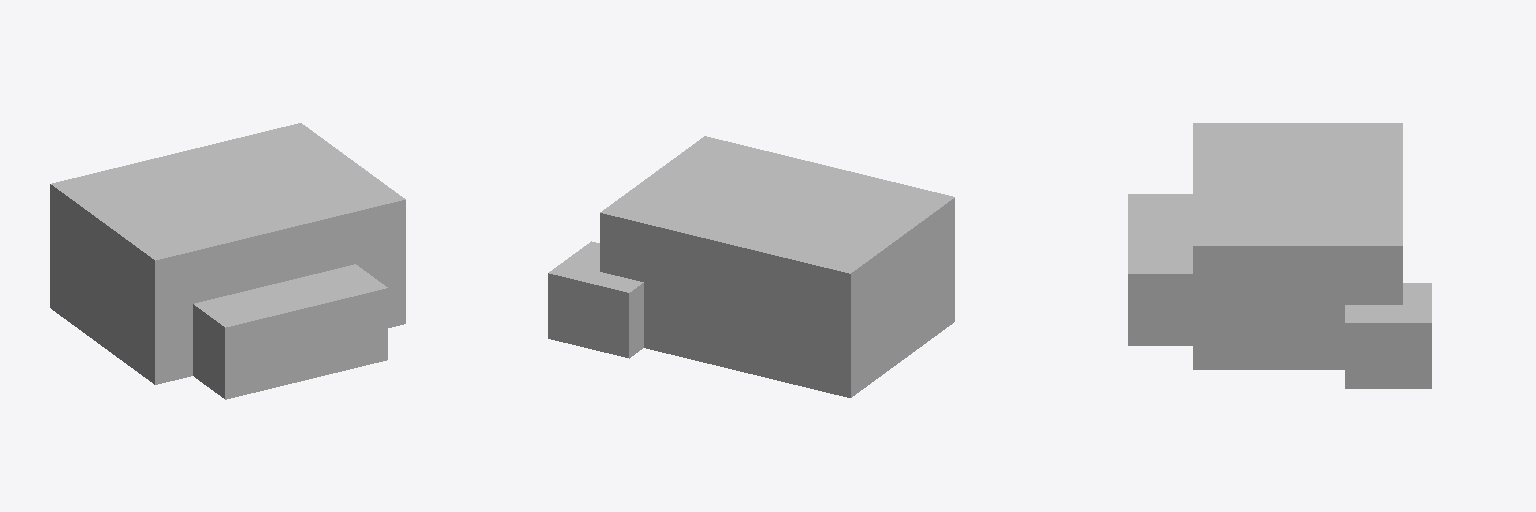
Rendered from Grama uno.obj.
3 views of the same model, side by side, from view 1: azimuth 30°, elevation 25°; view 2: azimuth 150°, elevation 25°; view 3: azimuth 270°, elevation 25° (orthographic).
Parts seen in each view (by area): view 1: object 1; view 2: object 1; view 3: object 1.
Boxes of the visible parts, x1=… form: object 1: x1=50, y1=123, x2=405, y2=399; object 1: x1=548, y1=136, x2=954, y2=397; object 1: x1=1128, y1=123, x2=1431, y2=388.
Bounding box in the file's own units: 4.6 × 1.9 × 4.2.